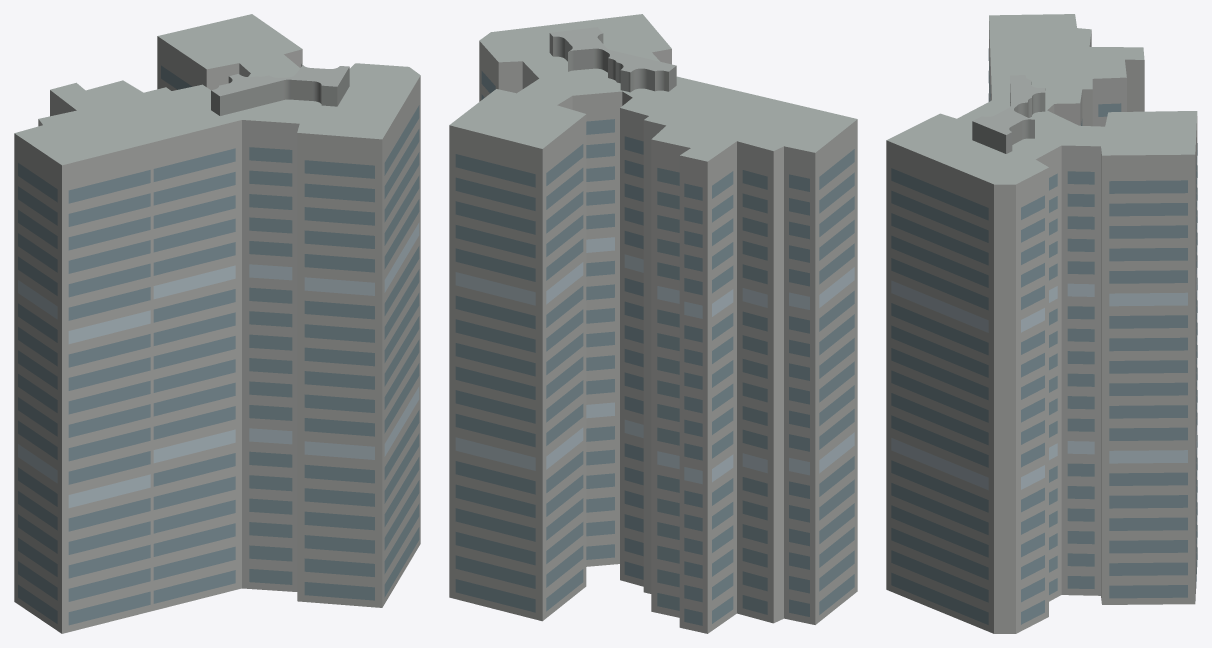
File: fallback-godeok-central-ipark-518.glb
3 views of the same model, side by side, from view 1: azimuth 30°, elevation 25°; view 2: azimuth 150°, elevation 25°; view 3: azimuth 270°, elevation 25° (orthographic). The views are drawn at different scales.
Parts seen in each view (by area): view 1: fallback-godeok-central-ipark-518; view 2: fallback-godeok-central-ipark-518; view 3: fallback-godeok-central-ipark-518.
Boxes of the visible parts, x1,y1,x2,y2 form: fallback-godeok-central-ipark-518: (14, 14, 420, 633); fallback-godeok-central-ipark-518: (449, 14, 857, 633); fallback-godeok-central-ipark-518: (886, 14, 1197, 633).
Bounding box in the file's own units: 46.06 × 59 × 35.53.
